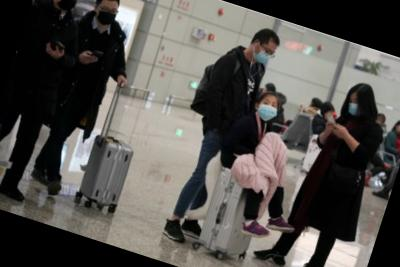with_mask: (92, 0, 120, 28), (252, 42, 278, 69), (256, 95, 282, 122), (346, 96, 366, 118)
without_mask: (398, 124, 400, 135)
